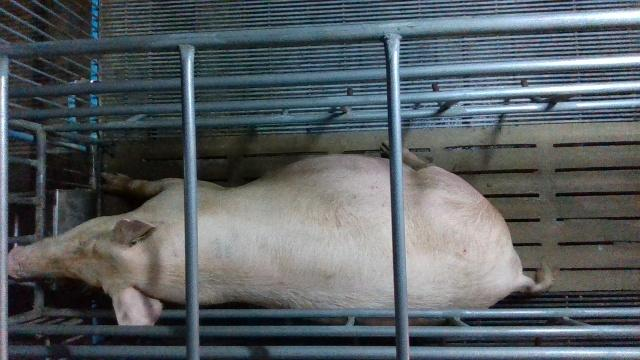sow-sit: (7, 141, 551, 326)
